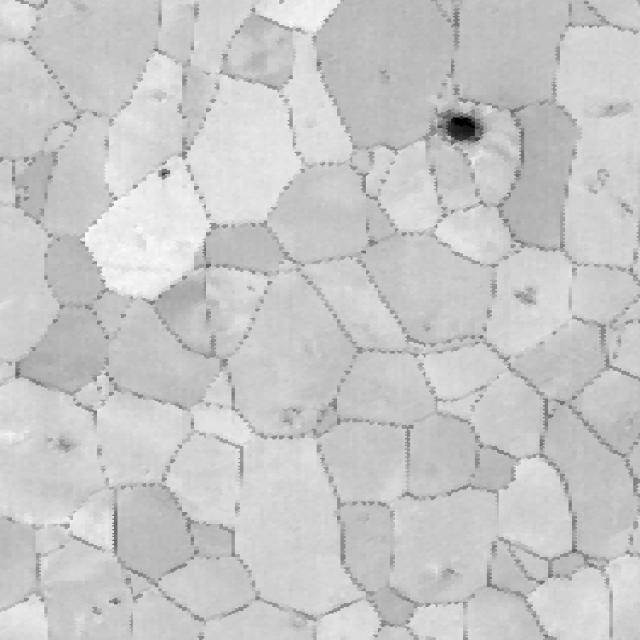good_void: (430, 112, 499, 152), (421, 563, 469, 589), (41, 428, 80, 459), (583, 166, 615, 200), (595, 96, 632, 119), (277, 402, 306, 431), (512, 285, 545, 310), (359, 215, 380, 249), (612, 194, 638, 218), (147, 169, 179, 184), (150, 87, 174, 106), (374, 67, 396, 86), (87, 602, 111, 618), (355, 511, 378, 527), (107, 596, 127, 608), (418, 322, 438, 334), (244, 283, 262, 294), (276, 0, 286, 7)
